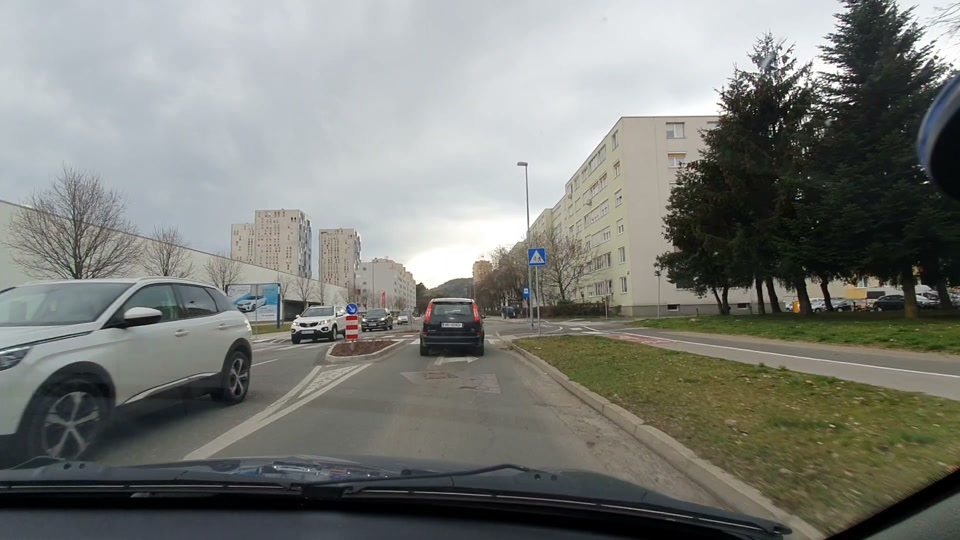vehicle_ign: (422, 295, 486, 362)
vehicle_s: (2, 272, 263, 463), (285, 301, 341, 345), (362, 305, 395, 333)
